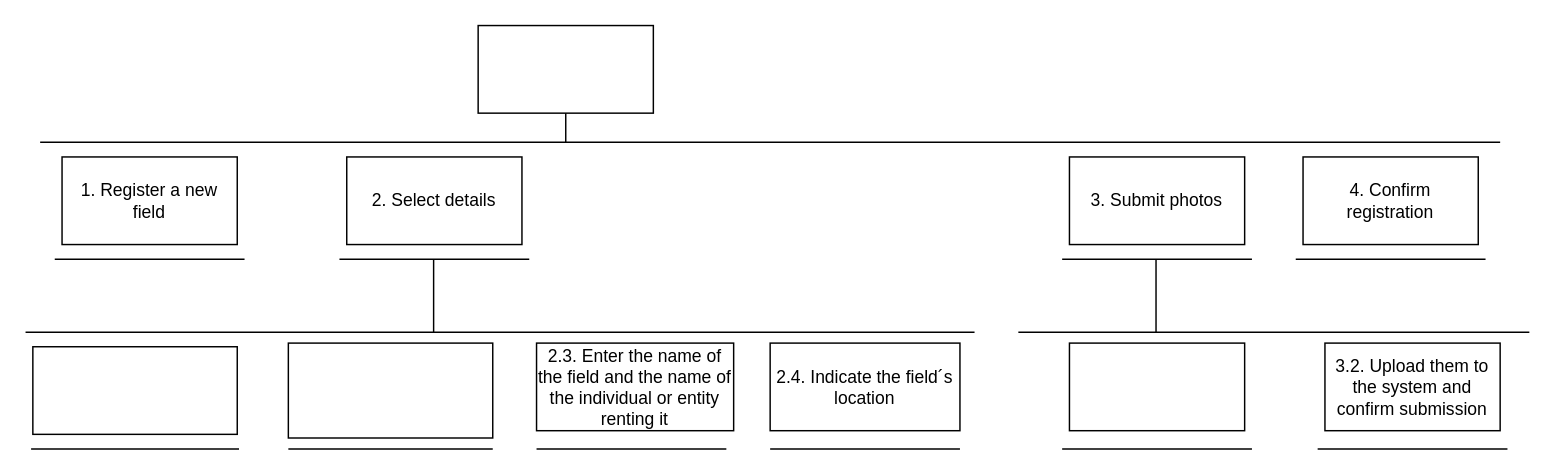
Some shapes in this 1556 by 476 pixel diagram are drawn without their labels. The box of each missing label's shape, as (x1, y1, x2, y2) in pixels:
2.1. Specify whether the field should be register as public or private: (31, 345, 237, 434)
2.2. Define the pricing structure and rental time slots: (287, 342, 493, 438)
3.1. Capture or choose the appropriate photos: (1068, 342, 1245, 431)
Register a new private field: (477, 24, 653, 113)
